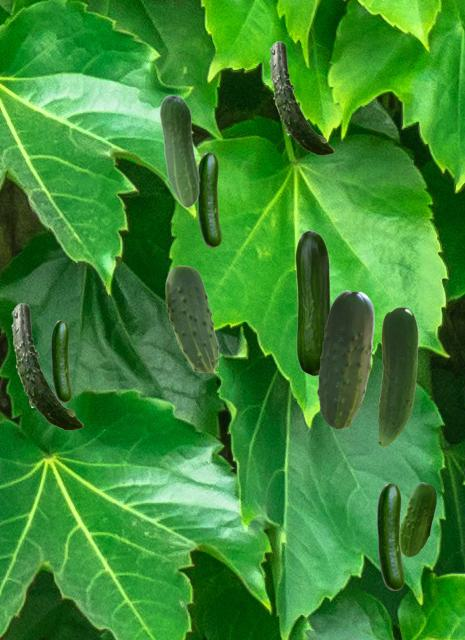cucumber: (11, 303, 82, 429), (317, 290, 373, 428), (269, 41, 333, 154), (165, 265, 217, 371), (378, 307, 417, 445), (295, 230, 330, 375), (159, 94, 199, 207), (377, 483, 403, 589), (399, 482, 435, 556), (197, 152, 220, 246), (51, 320, 70, 401)
